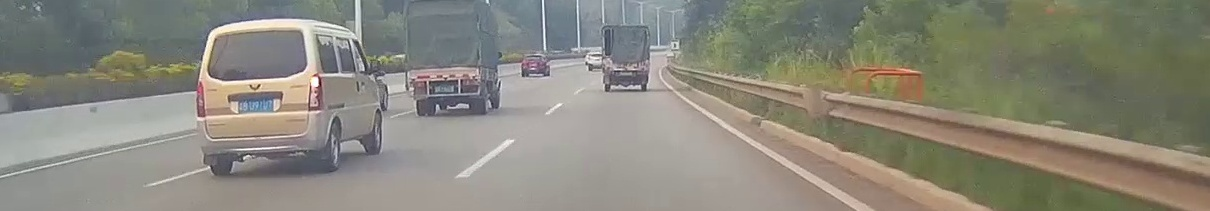L_light: (196, 81, 206, 117), (412, 81, 426, 87), (605, 71, 614, 74)
R_light: (308, 73, 322, 111), (462, 79, 478, 85), (637, 71, 646, 74)
T_light: (244, 32, 265, 37), (436, 70, 454, 75), (620, 62, 631, 65)
day-no: (405, 0, 483, 116), (602, 24, 650, 91)
day-right: (196, 18, 324, 176)
